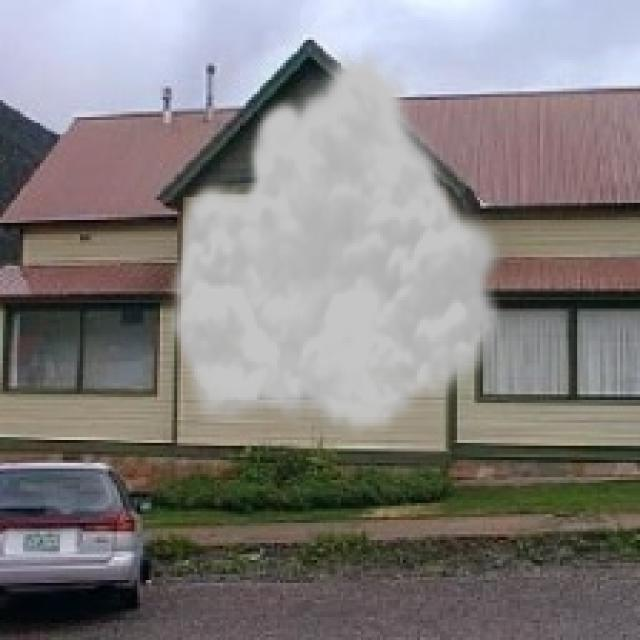smoke: (163, 43, 511, 437)
